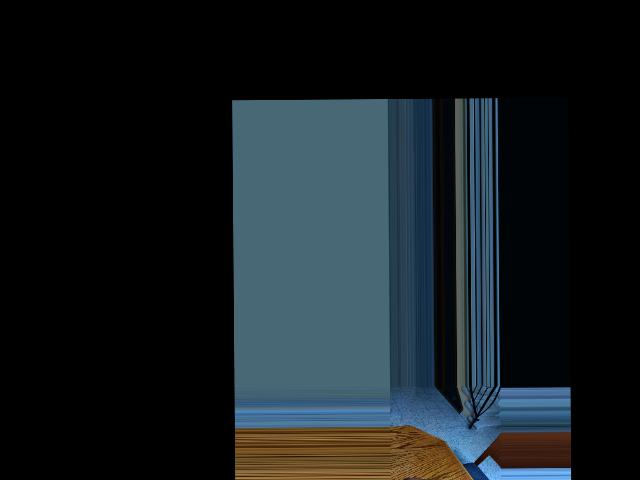sweet_potato: (403, 474, 470, 480)
